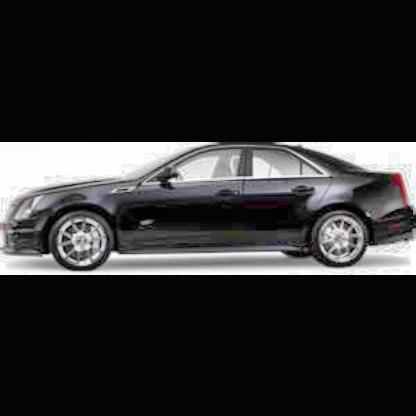Cadillac CTS-V Sedan 2012: (2, 143, 416, 273)
